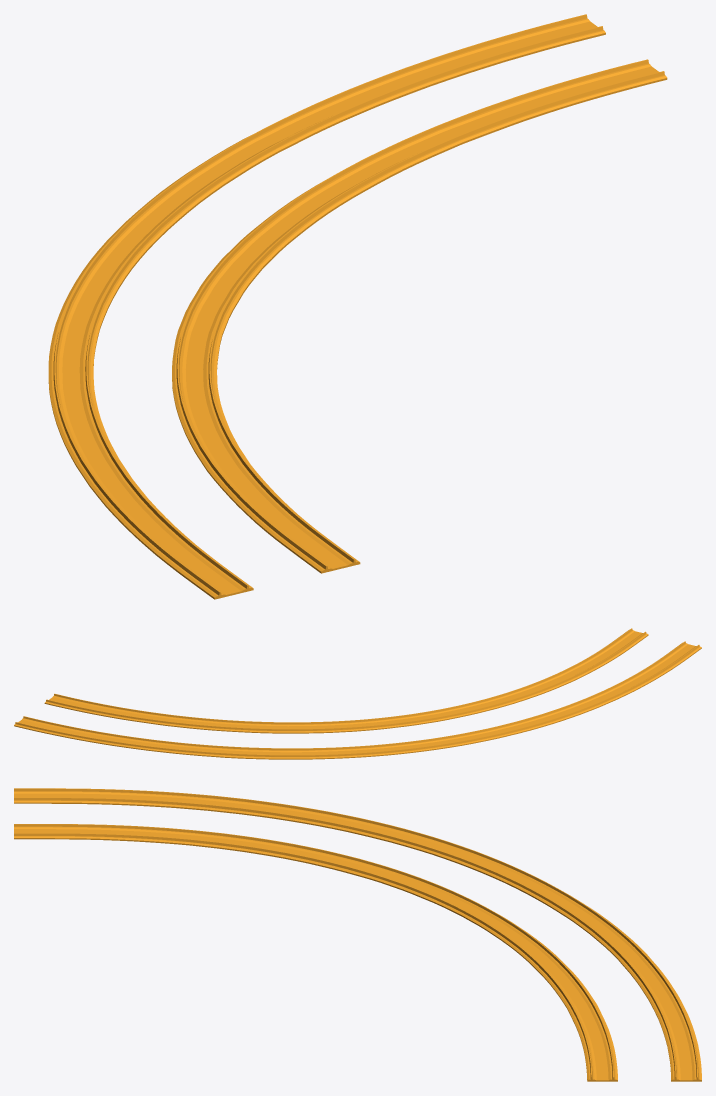
File: SM_Train_Rail_Turn_Double_Collider.fbx
3 views of the same model, one above another, from view 1: azimuth 30°, elevation 25°; view 2: azimuth 150°, elevation 25°; view 3: azimuth 270°, elevation 25° (orthographic). The views are drawn at different scales.
Parts seen in each view (by area): view 1: SM_Train_Rail_Turn_Double_Collider; view 2: SM_Train_Rail_Turn_Double_Collider; view 3: SM_Train_Rail_Turn_Double_Collider.
Boxes of the visible parts, x1,y1,x2,y2 form: SM_Train_Rail_Turn_Double_Collider: [48, 14, 667, 599]; SM_Train_Rail_Turn_Double_Collider: [14, 628, 701, 759]; SM_Train_Rail_Turn_Double_Collider: [14, 788, 701, 1081].
Size of the model in its own units: 49.1 by 0.3232 by 49.09.
